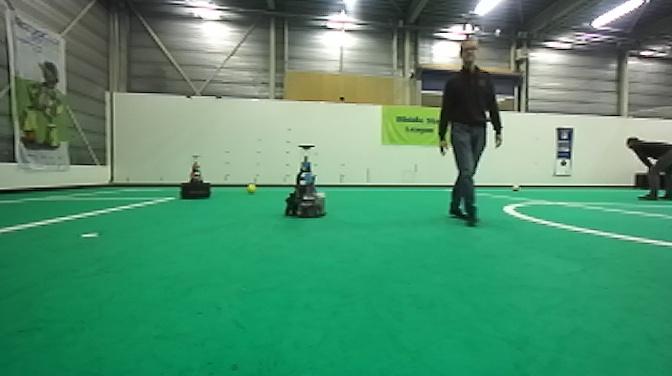ball: (244, 181, 258, 194), (509, 181, 521, 194)
human: (434, 37, 506, 230), (624, 134, 672, 202)
robot: (282, 143, 330, 220), (177, 153, 215, 201)
